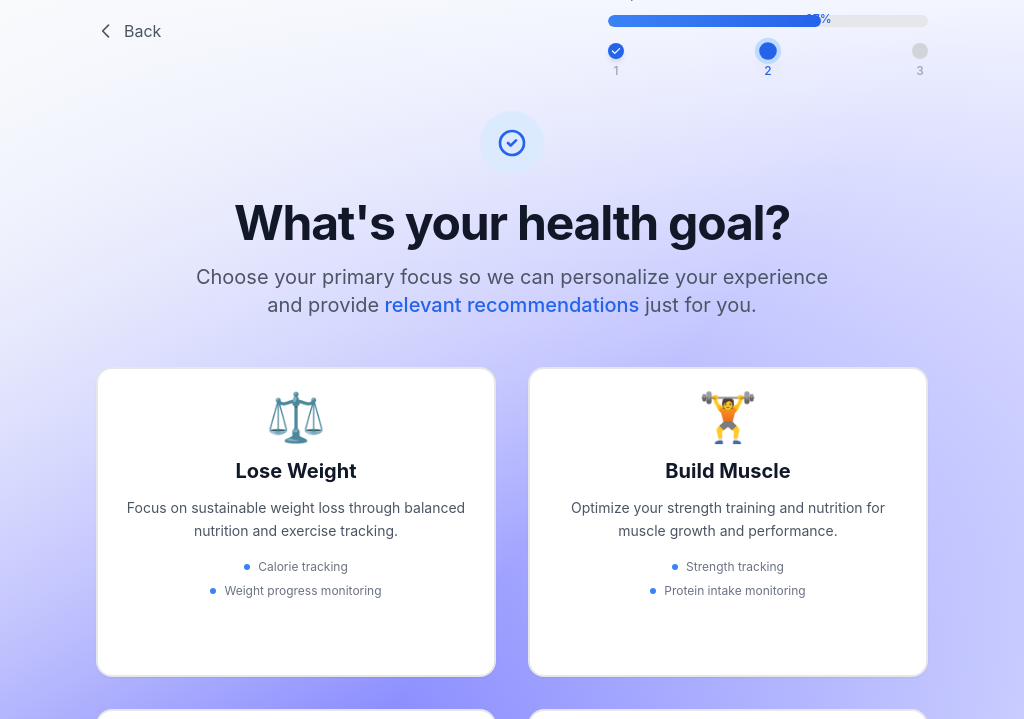
HealthGoalSelection › should enable continue button only after goal selection
# Click on a goal
Click the radio button "Lose Weight": (296, 522) top-left (96, 367), bottom-right (496, 676)
(page scrolled)
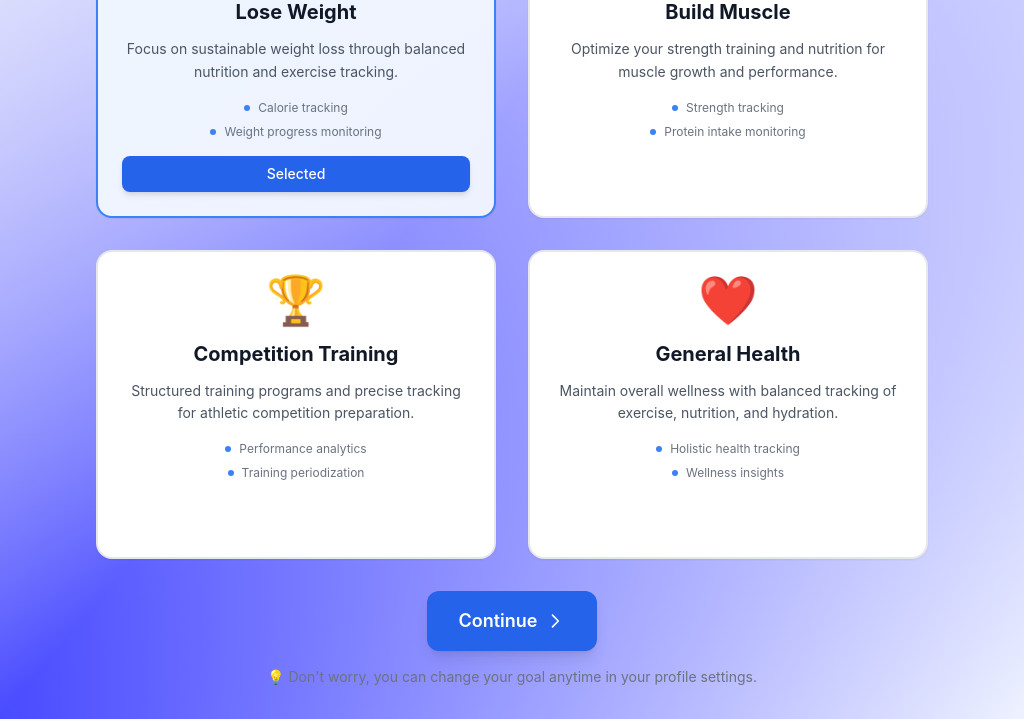
Now the button "Continue" is enabled, box top-left (426, 591), bottom-right (598, 651)
